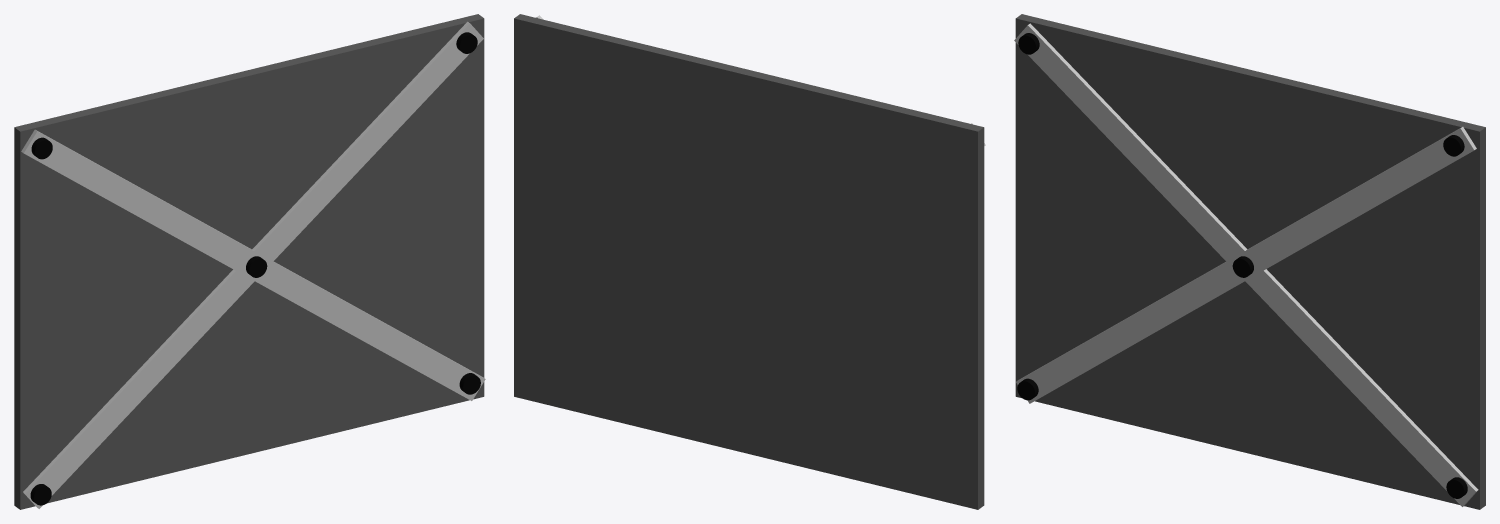
The picture shows the model from 3 angles, left to right: view 1: azimuth 30°, elevation 25°; view 2: azimuth 150°, elevation 25°; view 3: azimuth 330°, elevation 25°; orthographic projection.
Visible parts, largest first — view 1: mesh_id49, mesh_id51, mesh_id57; view 2: mesh_id49; view 3: mesh_id49, mesh_id57, mesh_id51.
Part boxes in pixels (<box>): mesh_id49: <box>14,14,484,509</box>; mesh_id51: <box>23,21,483,508</box>; mesh_id57: <box>21,129,485,400</box>; mesh_id49: <box>514,14,984,509</box>; mesh_id49: <box>1015,14,1485,509</box>; mesh_id57: <box>1014,23,1478,506</box>; mesh_id51: <box>1016,126,1476,403</box>.
Bounding box in the file's own units: 0.2872 × 0.2252 × 0.013.
3 materials, 3 textured.
